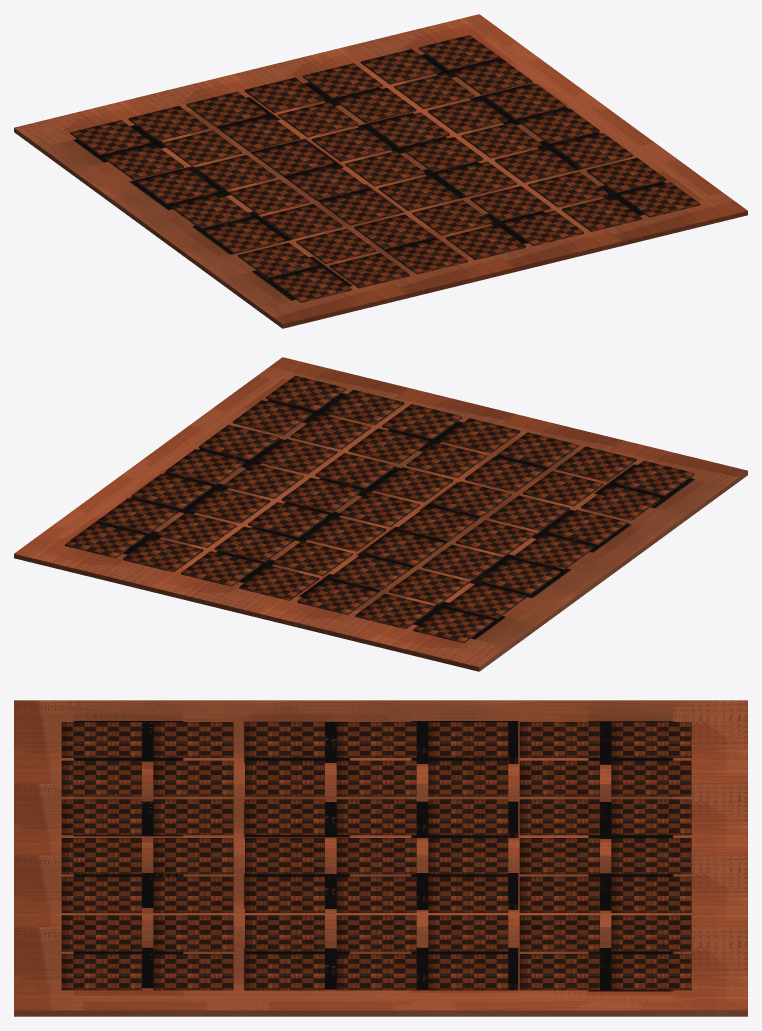
Rendered from Sapphia-7x7.fbx.
3 views of the same model, one above another, from view 1: azimuth 30°, elevation 25°; view 2: azimuth 150°, elevation 25°; view 3: azimuth 270°, elevation 25° (orthographic). The views are drawn at different scales.
Visible parts, largest first — view 1: SapphiaBoard5x5; view 2: SapphiaBoard5x5; view 3: SapphiaBoard5x5.
Part boxes in pixels (x1,y1,x2,y2): SapphiaBoard5x5: (14,14,747,328); SapphiaBoard5x5: (14,357,747,671); SapphiaBoard5x5: (14,700,747,1016).
Bounding box in the file's own units: 1603 × 20.45 × 1603.
